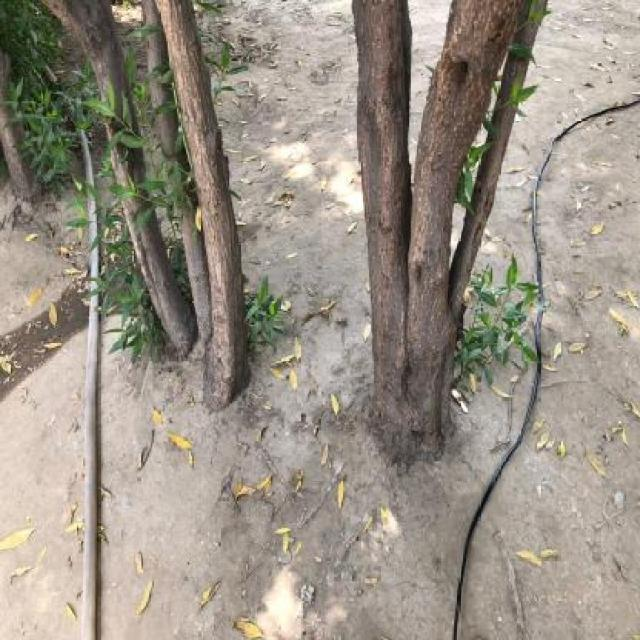garbage: (268, 351, 349, 514), (537, 428, 627, 492), (134, 406, 206, 481), (3, 519, 79, 565)
